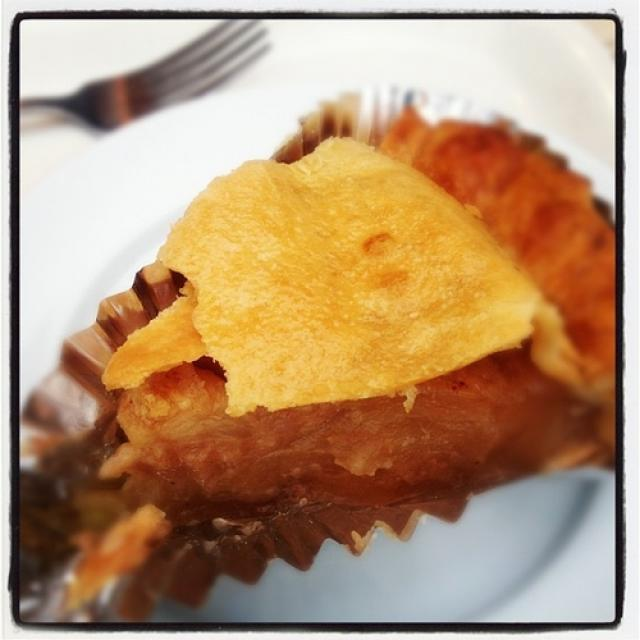Apple: (17, 101, 617, 629)
